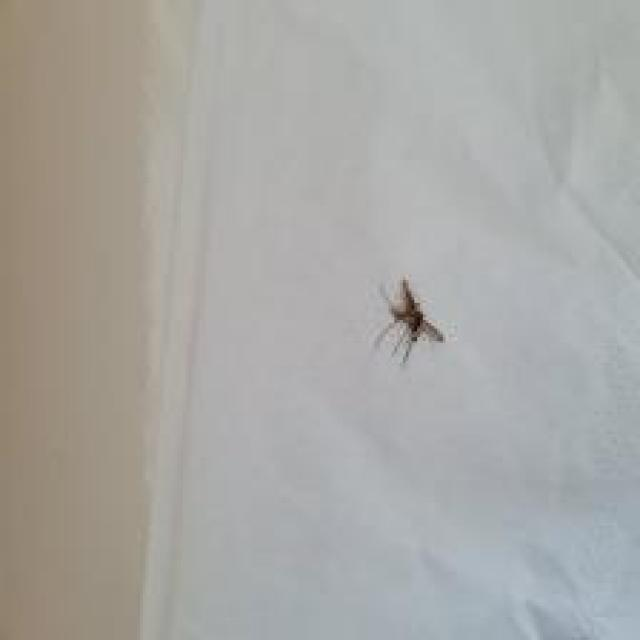Culex: (371, 274, 446, 366)
